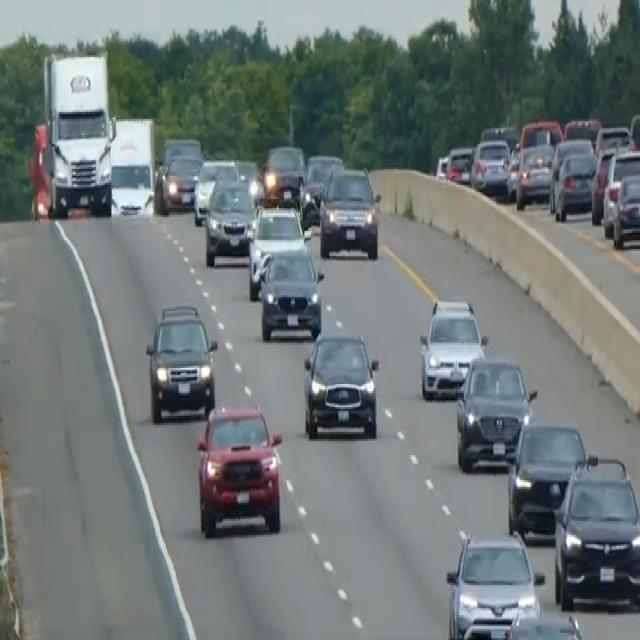car: (552, 454, 639, 612), (195, 402, 283, 537), (444, 526, 544, 638), (506, 420, 588, 540), (454, 352, 536, 471), (144, 301, 218, 423), (302, 329, 380, 441), (418, 295, 487, 400), (258, 238, 324, 342), (318, 163, 381, 260), (246, 202, 306, 298), (203, 176, 255, 267), (192, 154, 238, 226), (553, 150, 598, 220), (300, 151, 343, 224), (497, 608, 593, 638), (514, 140, 555, 210), (261, 143, 305, 205), (159, 150, 202, 212), (470, 135, 511, 196), (611, 169, 639, 249), (518, 117, 562, 151), (233, 156, 262, 204), (445, 144, 473, 185), (161, 135, 202, 162)
lorry: (29, 50, 115, 218)
